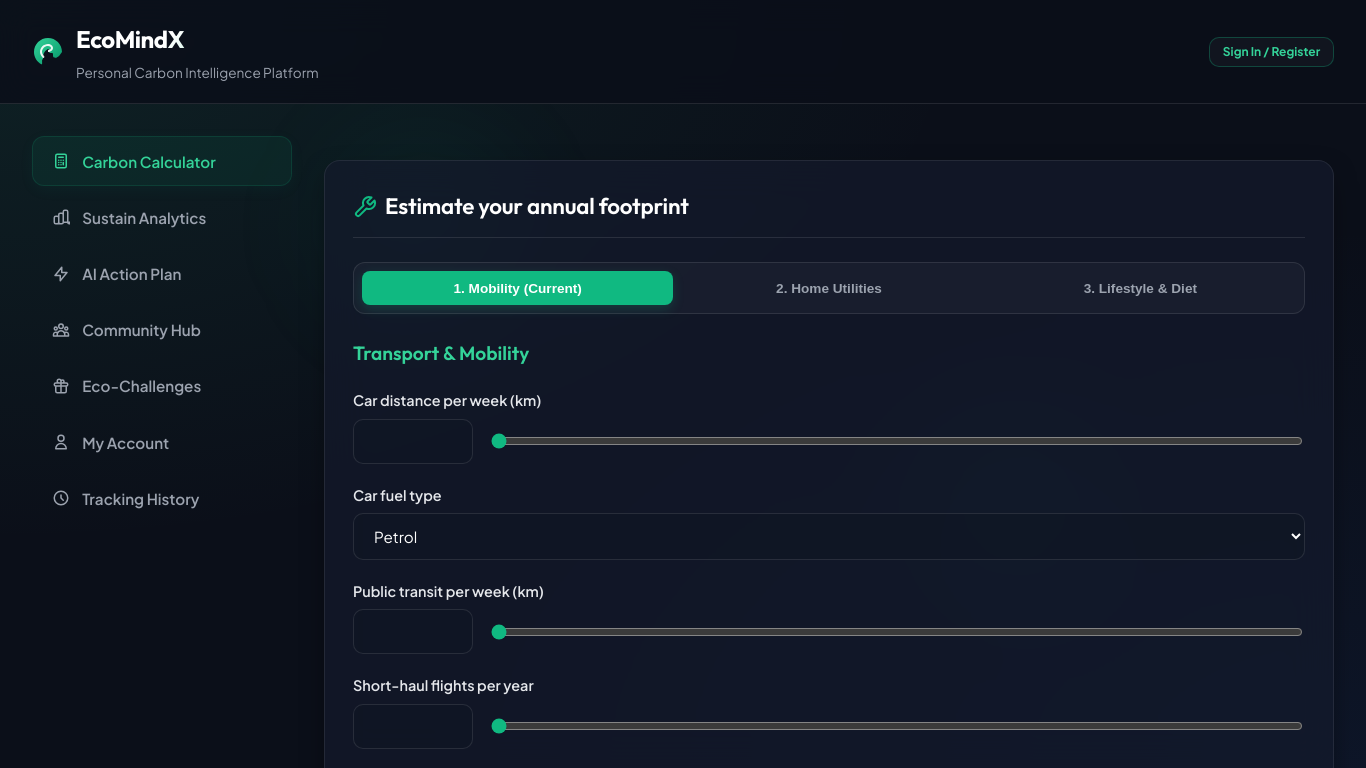
it: App › renders InsightsEmptyState on AI Action Plan tab before calculation is run
Click the tab "AI Action Plan": (162, 274) top-left (32, 249), bottom-right (292, 298)
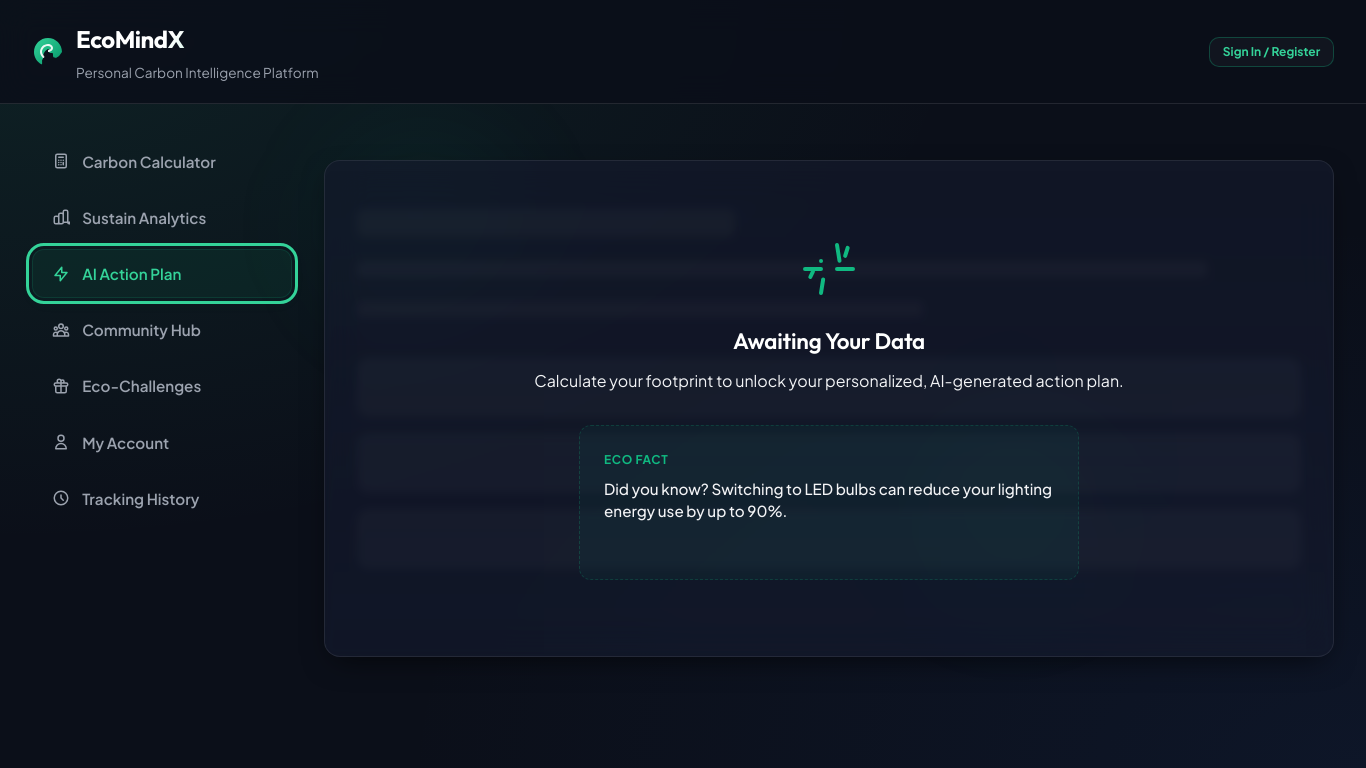
Expected: the heading "Awaiting Your Data" is shown, top-left (733, 327), bottom-right (925, 355)
